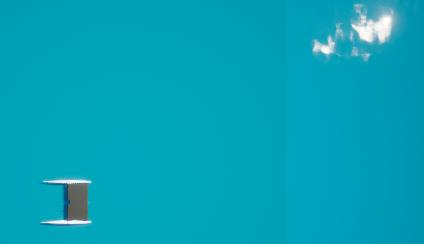boat: (41, 178, 93, 231)
drone: (68, 183, 87, 221)
land_base: (298, 3, 416, 69)
